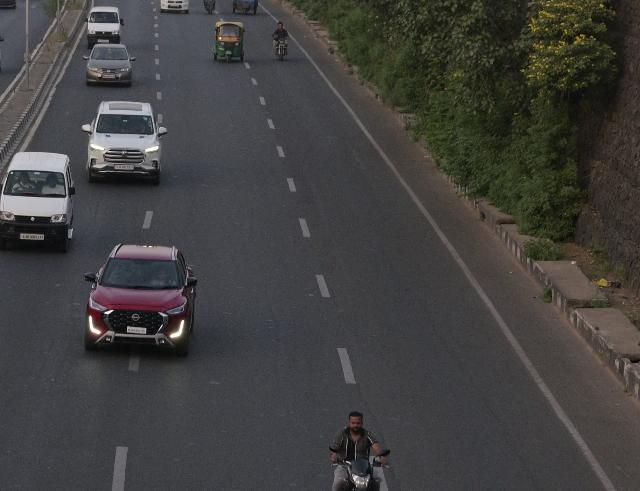Without Helmet: (344, 409, 366, 431), (278, 21, 284, 29)
